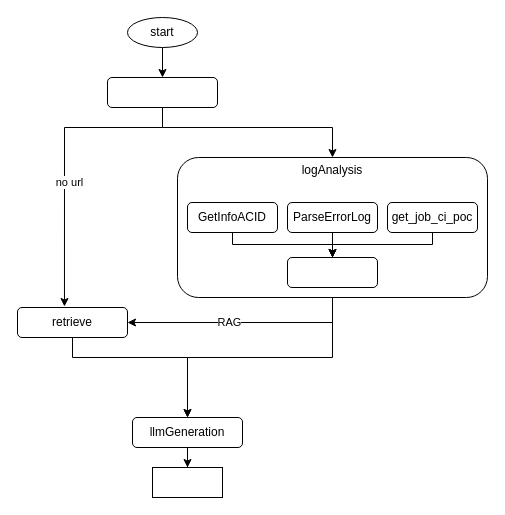
This 505x515 diagram has some shape labels left out. The centre of each missing label's shape, as x and y in pixels:
ConsolidateInfo: the point at 332,272
end: the point at 187,482
waitforInput: the point at 162,92
